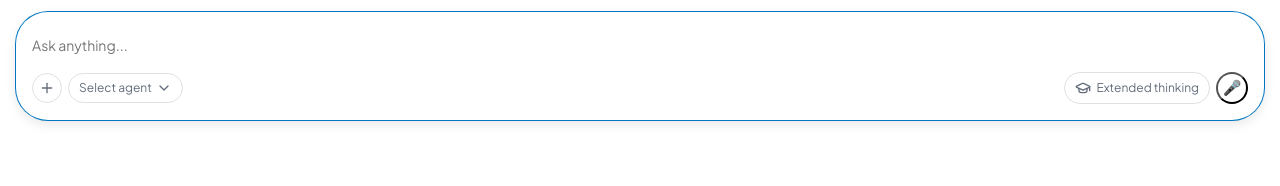
MessageInput @-mention › shows matching agents and switches the active agent on selection, removing the mention text
The width and height of the screenshot is (1280, 186).
Type "hey @sales" into the text box with placeholder "Ask anything...". click: point(640, 46)
box: left=32, top=28, right=1248, bottom=64
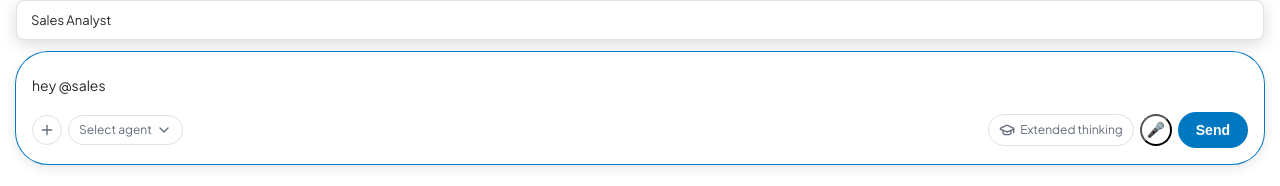
Now the button "Sales Analyst" is shown
Click the button "Sales Analyst". click: point(71, 20)
box: left=21, top=5, right=1259, bottom=35
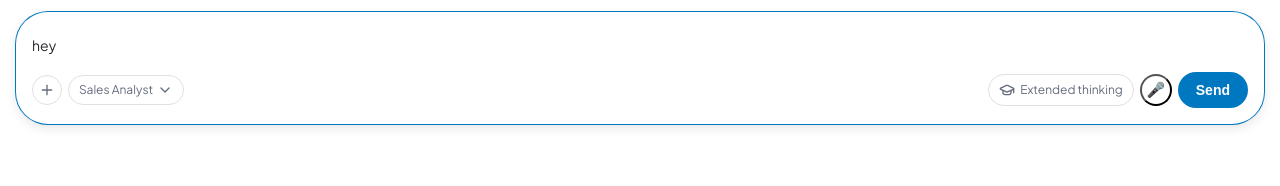
Now the text box with placeholder "Ask anything..." holds "hey ", box left=32, top=28, right=1248, bottom=64
